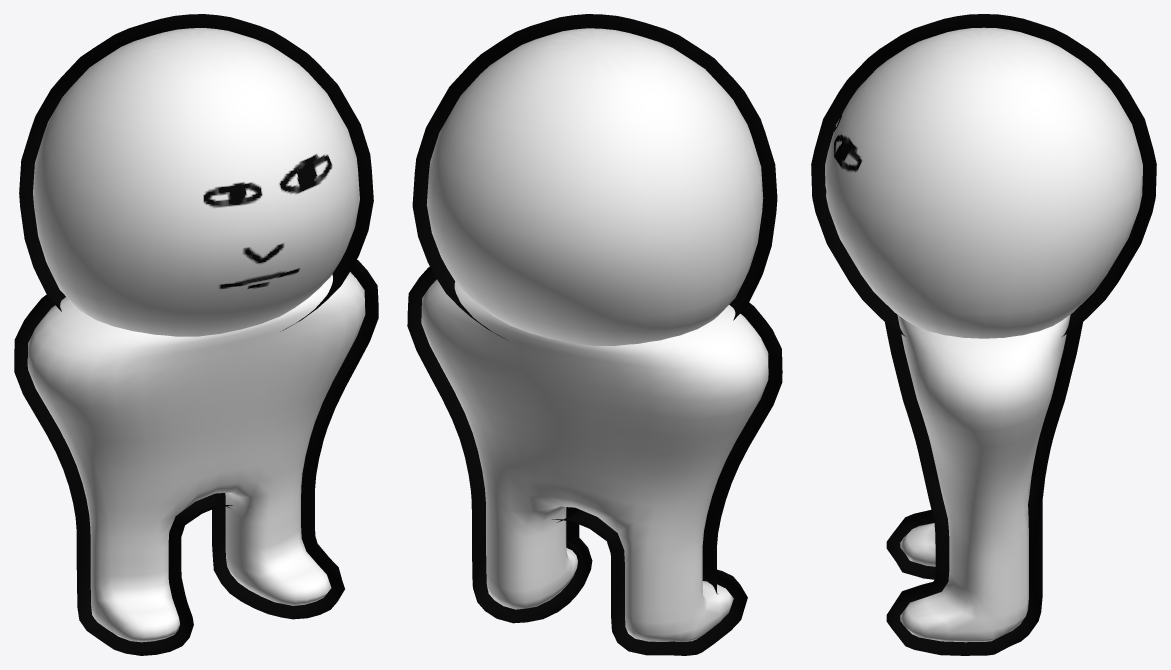
File: Orbo.fbx
The picture shows the model from 3 angles, left to right: view 1: azimuth 30°, elevation 25°; view 2: azimuth 150°, elevation 25°; view 3: azimuth 270°, elevation 25°; orthographic projection. The views are drawn at different scales.
Parts seen in each view (by area): view 1: Orbo_Geo; view 2: Orbo_Geo; view 3: Orbo_Geo.
Part boxes in pixels (x1=…): Orbo_Geo: x1=14, y1=14, x2=378, y2=655; Orbo_Geo: x1=407, y1=14, x2=782, y2=655; Orbo_Geo: x1=811, y1=14, x2=1156, y2=655.
Bounding box in the file's own units: 174 × 277 × 151.
